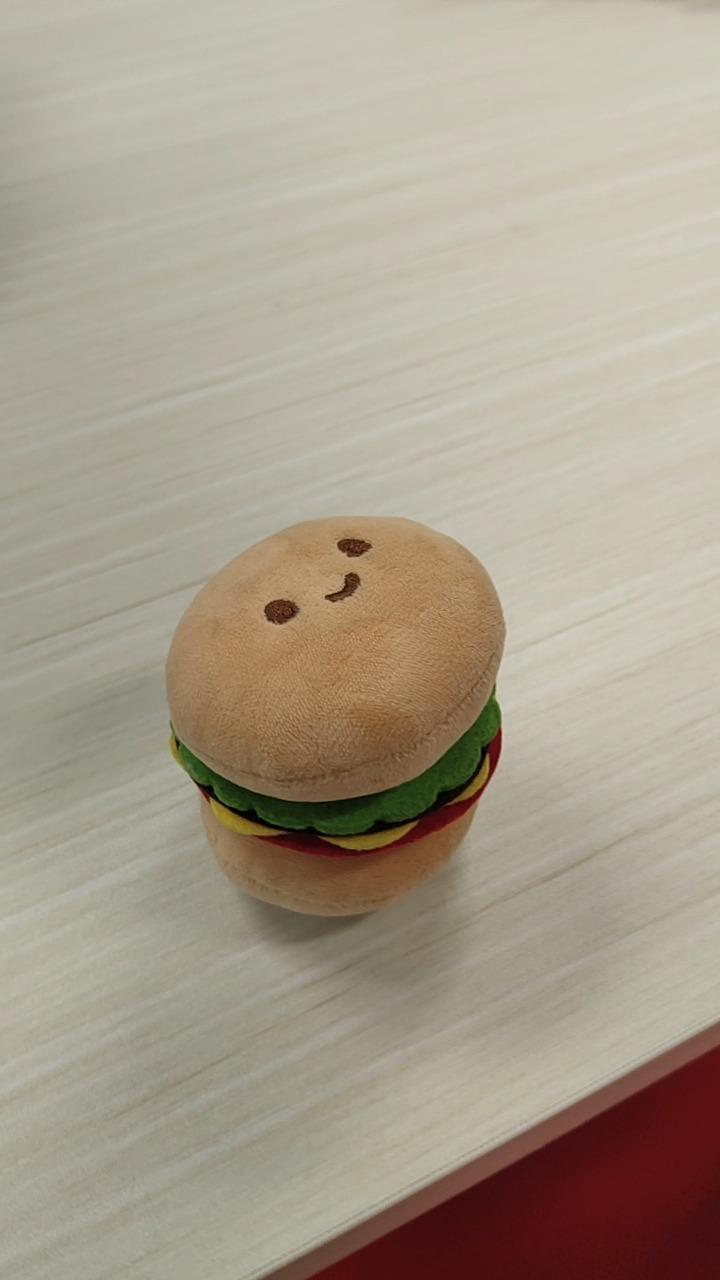hamburger: (164, 513, 506, 919)
